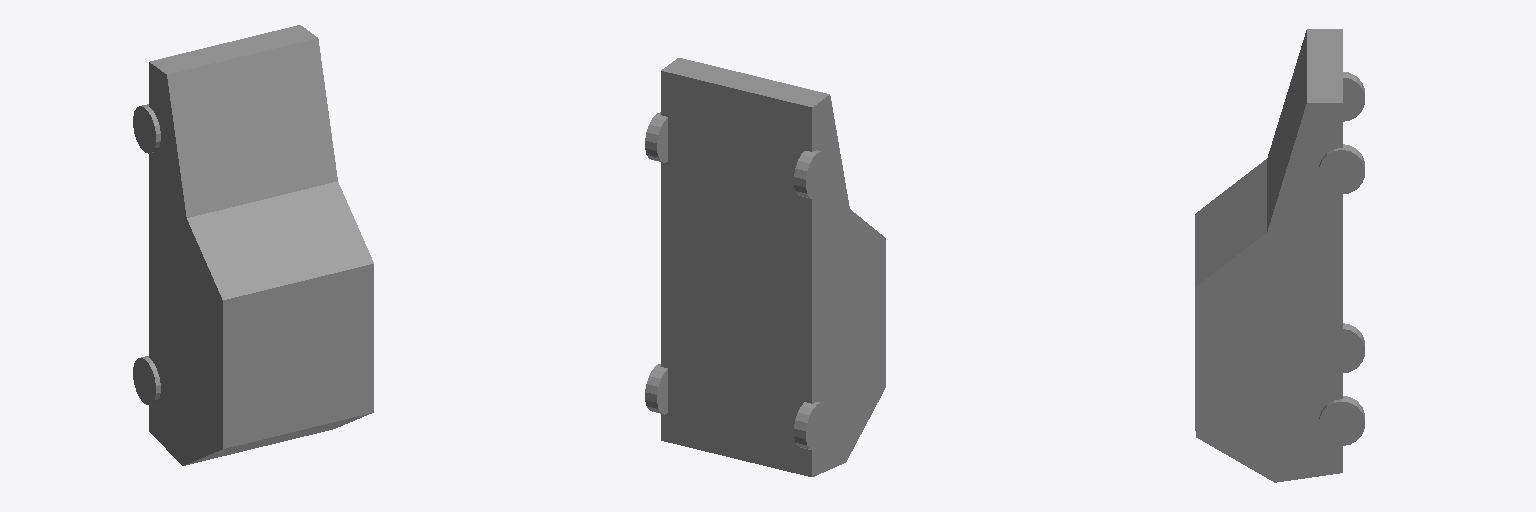
Rendered from suv.obj.
3 renders of one model, left to right at view 1: azimuth 30°, elevation 25°; view 2: azimuth 150°, elevation 25°; view 3: azimuth 270°, elevation 25°, orthographic.
Visible parts, largest first — view 1: _11; view 2: _11; view 3: _11.
Part boxes in pixels (x1,y1,x2,y2): _11: (133, 25, 373, 465); _11: (645, 58, 885, 476); _11: (1195, 29, 1364, 482).
Bounding box in the file's own units: 34.81 × 78.51 × 31.87.